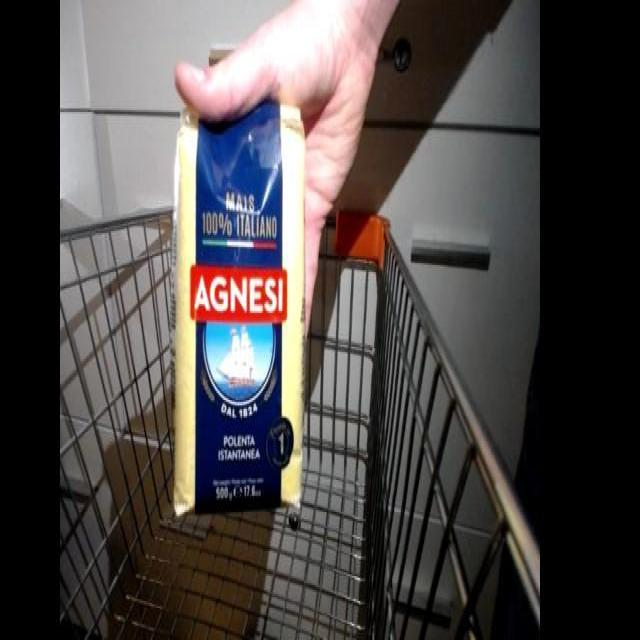Agnesi Polenta: (168, 87, 313, 519)
